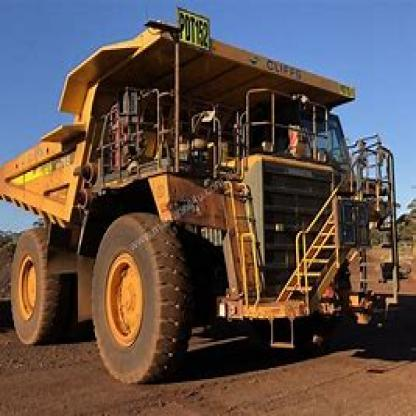dump_truck: (5, 17, 385, 372)
